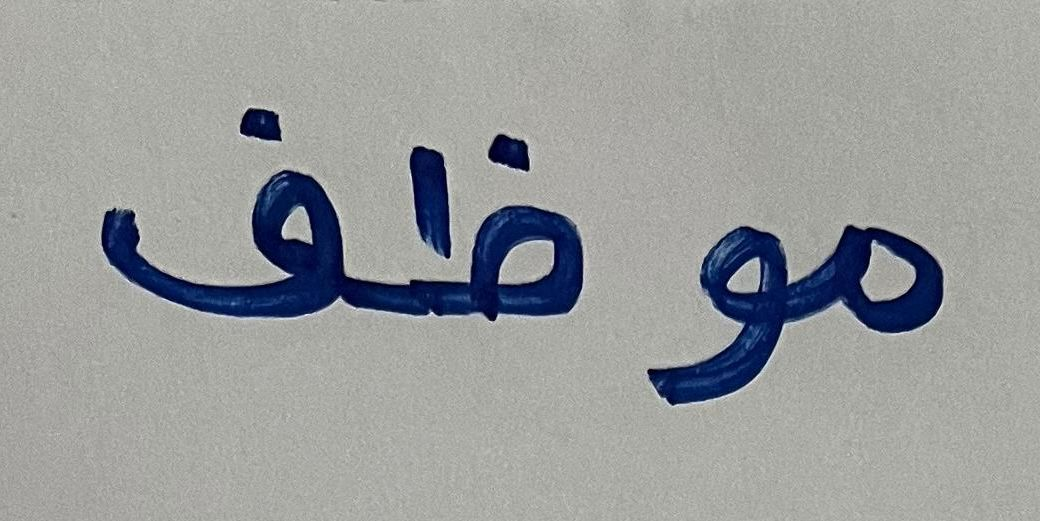feh: (63, 58, 366, 385)
meem: (805, 142, 982, 404)
waw: (620, 178, 796, 433)
zah: (369, 24, 605, 427)
